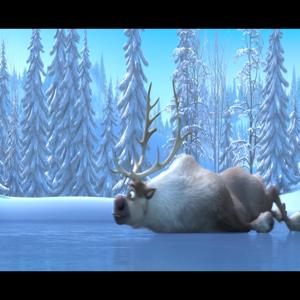sven: (113, 118, 291, 243)
